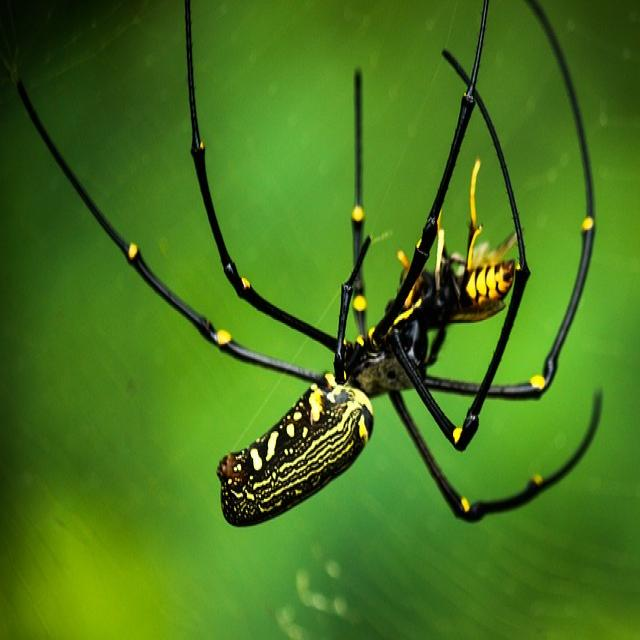spyder: (16, 0, 599, 527)
